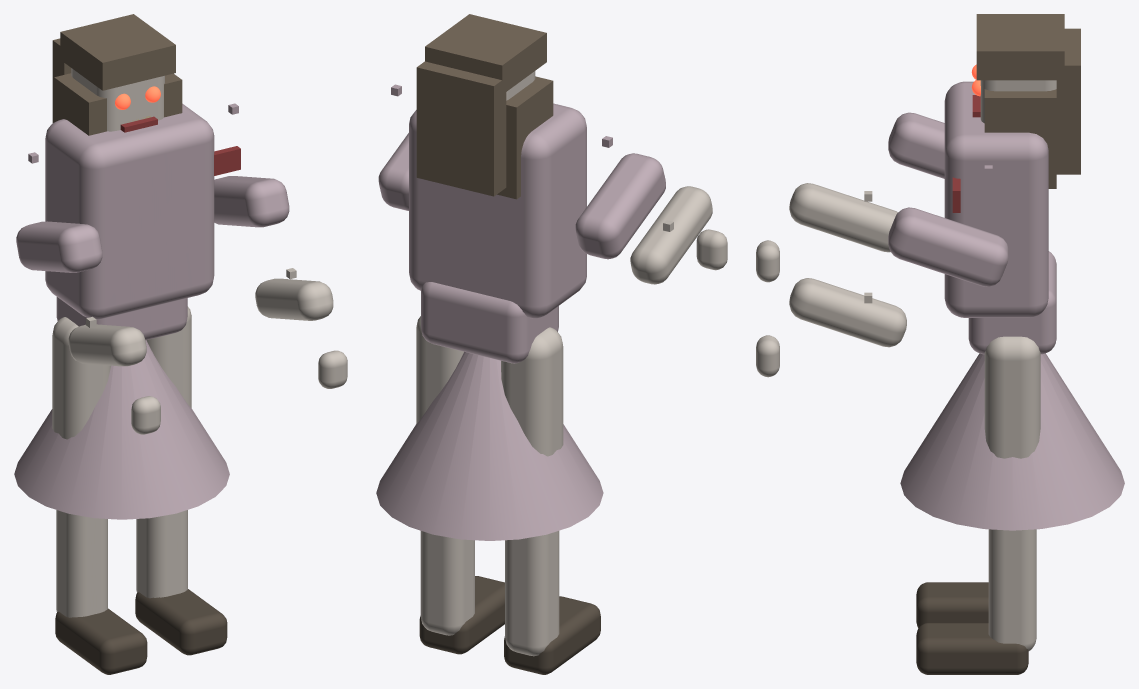
Rendered from walker_zombie_female.glb.
3 renders of one model, left to right at view 1: azimuth 30°, elevation 25°; view 2: azimuth 150°, elevation 25°; view 3: azimuth 270°, elevation 25°, orthographic. The views are drawn at different scales.
Visible parts, largest first — view 1: torso_mesh, dress_skirt, hair_top, shin_l, thigh_l, foot_r, foot_l, shin_r, upper_arm_l, upper_arm_r, forearm_r, forearm_l (+9 smaller); view 2: dress_skirt, torso_mesh, hair_back, pelvis_mesh, shin_l, hair_top, upper_arm_l, thigh_l, shin_r, forearm_l, foot_l, hair_l (+4 smaller); view 3: dress_skirt, torso_mesh, thigh_r, upper_arm_r, hair_top, shin_r, foot_r, forearm_r, forearm_l, hair_r, hair_back, foot_l (+5 smaller).
Part boxes in pixels (x1=…): torso_mesh: x1=45, y1=103, x2=214, y2=319; dress_skirt: x1=14, y1=340, x2=229, y2=519; hair_top: x1=60, y1=14, x2=175, y2=90; shin_l: x1=56, y1=510, x2=107, y2=617; thigh_l: x1=52, y1=317, x2=110, y2=439; foot_r: x1=135, y1=589, x2=227, y2=655; foot_l: x1=55, y1=608, x2=147, y2=674; shin_r: x1=136, y1=510, x2=187, y2=598; upper_arm_l: x1=16, y1=221, x2=102, y2=272; upper_arm_r: x1=214, y1=176, x2=289, y2=227; forearm_r: x1=255, y1=278, x2=333, y2=320; forearm_l: x1=68, y1=324, x2=146, y2=366; dress_skirt: x1=376, y1=351, x2=603, y2=540; torso_mesh: x1=409, y1=103, x2=586, y2=318; hair_back: x1=416, y1=61, x2=506, y2=196; pelvis_mesh: x1=421, y1=282, x2=558, y2=363; shin_l: x1=505, y1=531, x2=559, y2=656; hair_top: x1=425, y1=14, x2=546, y2=92; upper_arm_l: x1=575, y1=153, x2=665, y2=259; thigh_l: x1=501, y1=327, x2=563, y2=456; shin_r: x1=420, y1=531, x2=474, y2=635; forearm_l: x1=630, y1=186, x2=712, y2=284; foot_l: x1=504, y1=596, x2=600, y2=674; hair_l: x1=497, y1=76, x2=553, y2=199; dress_skirt: x1=900, y1=353, x2=1124, y2=530; torso_mesh: x1=944, y1=81, x2=1048, y2=317; thigh_r: x1=984, y1=336, x2=1040, y2=458; upper_arm_r: x1=888, y1=207, x2=1008, y2=286; hair_top: x1=976, y1=14, x2=1064, y2=80; shin_r: x1=988, y1=529, x2=1036, y2=650; foot_r: x1=916, y1=623, x2=1028, y2=674; forearm_r: x1=789, y1=278, x2=906, y2=347; forearm_l: x1=789, y1=183, x2=897, y2=252; hair_r: x1=984, y1=89, x2=1056, y2=188; hair_back: x1=1056, y1=28, x2=1080, y2=174; foot_l: x1=916, y1=582, x2=988, y2=628.
Size of the model in its own units: 0.68 by 1.69 by 0.92.
